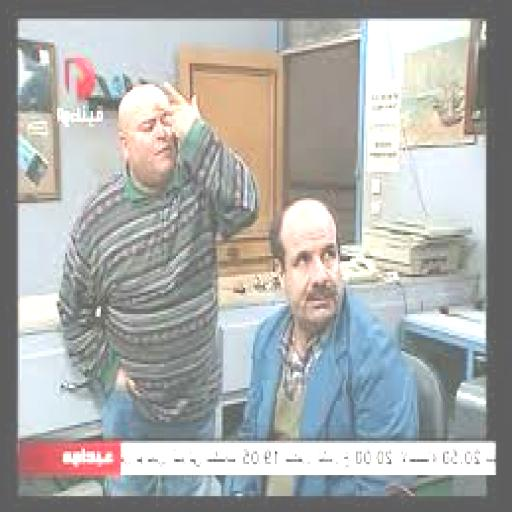beji_matrix: (271, 198, 344, 343)
sboui: (121, 84, 176, 179)
